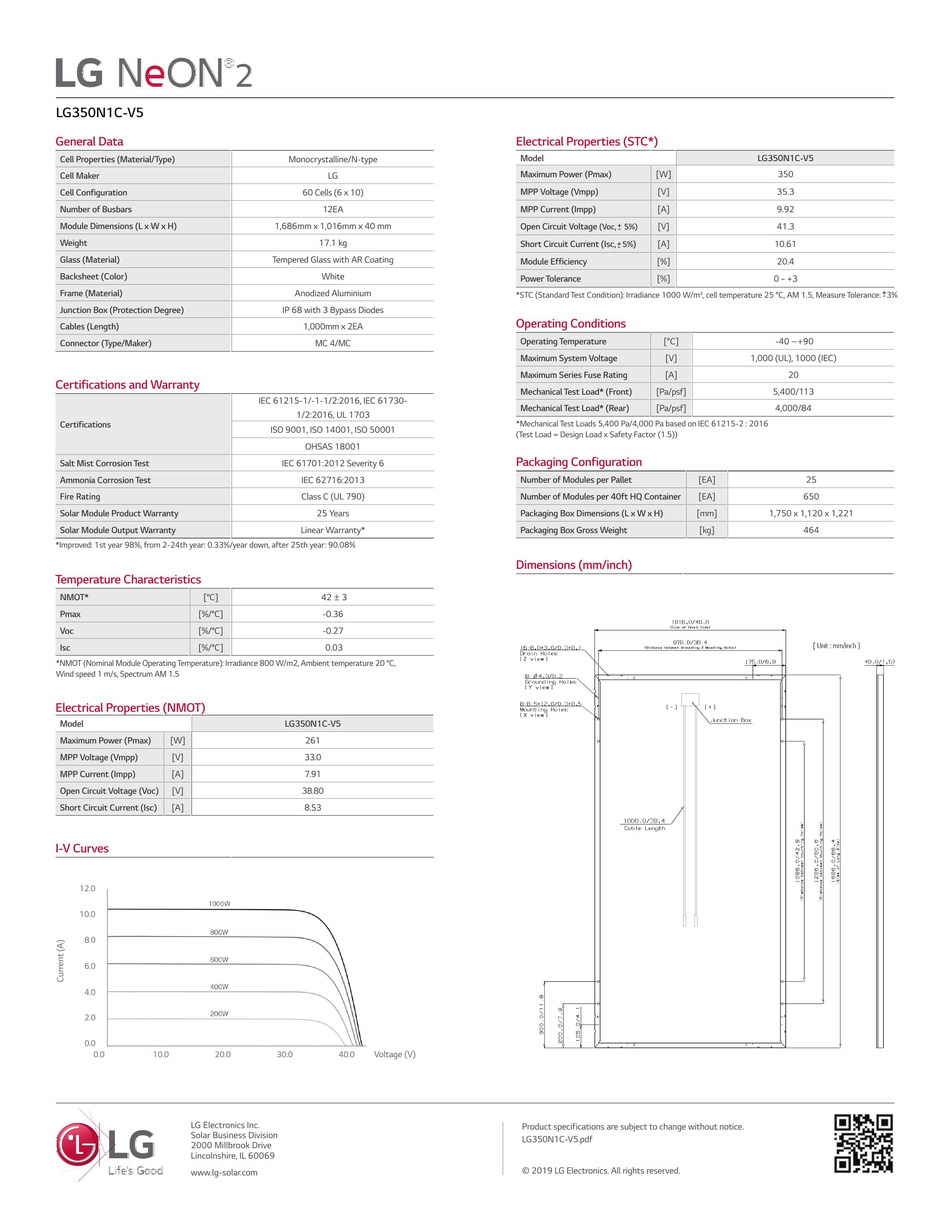table: (50, 127, 441, 359), (49, 374, 448, 555), (511, 127, 914, 306), (509, 313, 910, 443), (48, 695, 451, 820), (48, 567, 447, 681), (511, 450, 906, 545)
